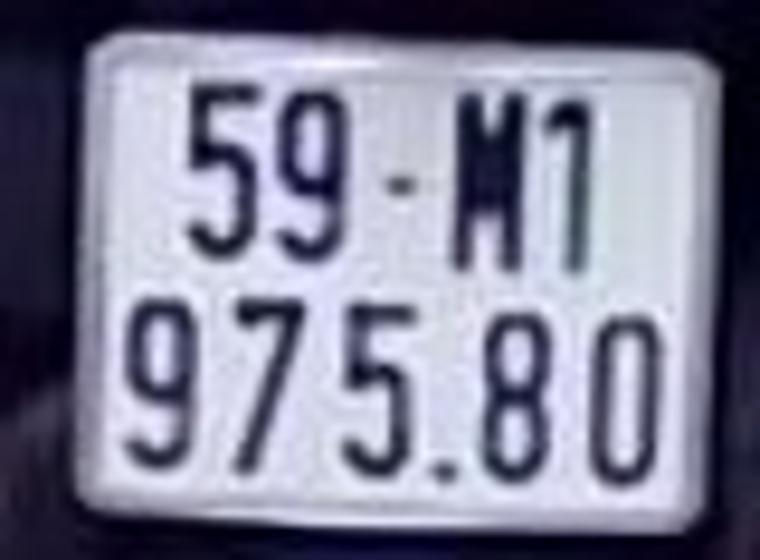-: (379, 174, 419, 203)
.: (426, 459, 469, 491)
0: (581, 309, 667, 489)
1: (538, 86, 607, 276)
5: (338, 296, 422, 483), (188, 76, 262, 260)
7: (229, 292, 314, 487)
8: (473, 305, 559, 491)
9: (117, 288, 205, 472), (274, 80, 354, 268)
M: (446, 89, 533, 272)
